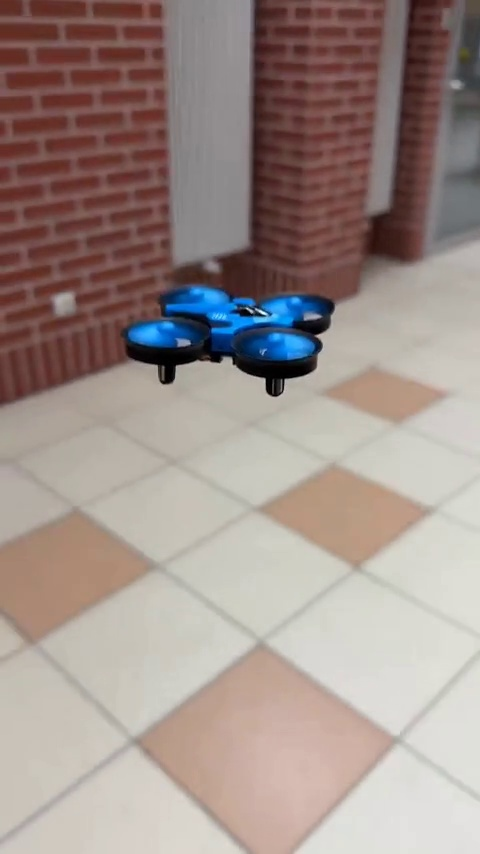drone: (122, 283, 331, 393)
